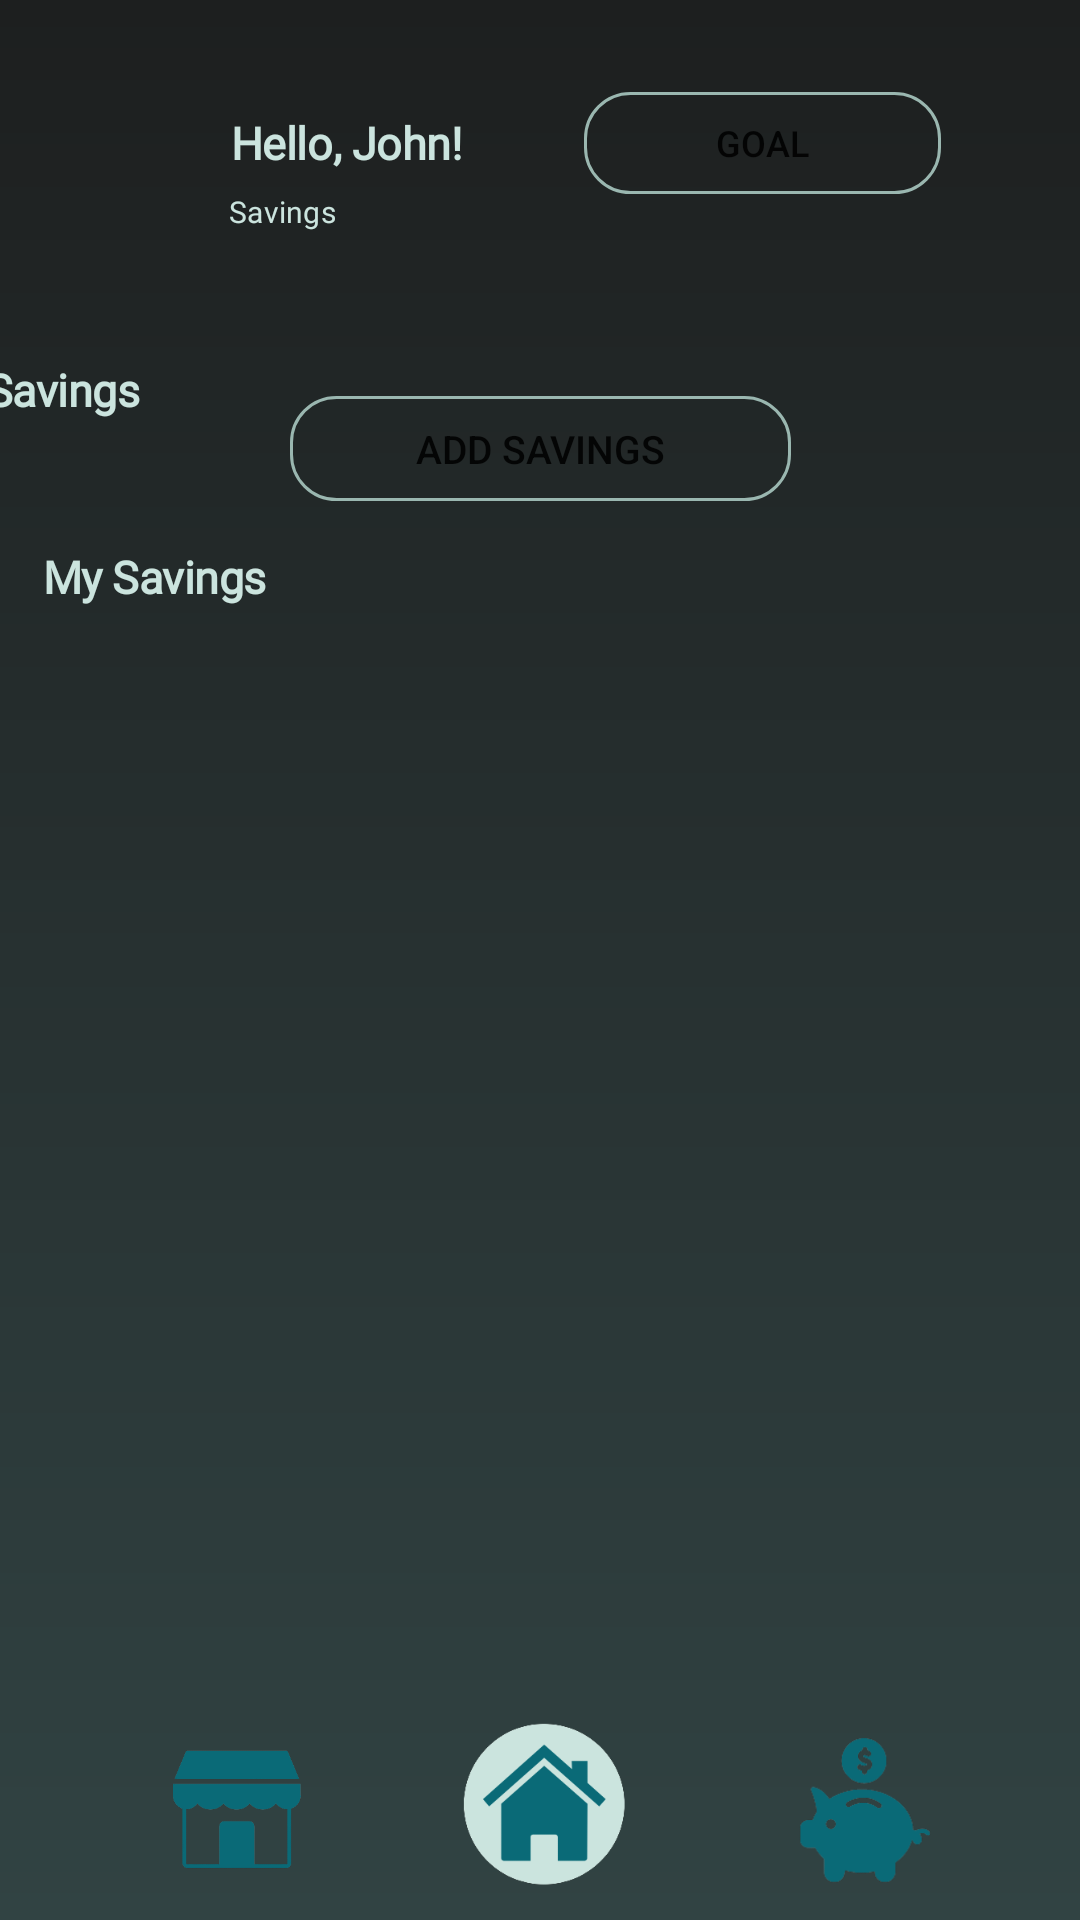

Icons on this 1080px x 1920px Android screen, each with its box as (x1, y1, x2, y2):
homeicon: (464, 1724, 625, 1885)
marketplaceicon: (173, 1751, 301, 1868)
savingsicon: (800, 1738, 930, 1882)
